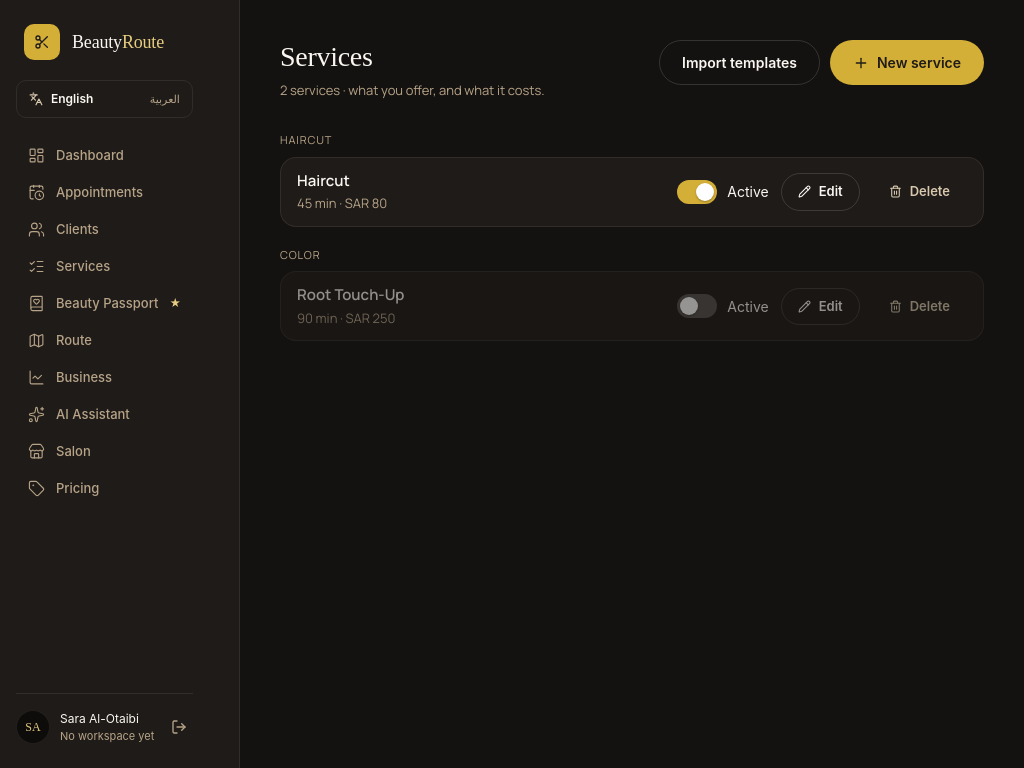
Test: Services page › shows a specific message when delete is blocked because the service has been booked before
Expected: the text "Haircut" is shown, [297,170,350,191]
Step 1. Click the button "Delete" in the row of "45 min · SAR 80" → (919,192), box [872,173,967,211]
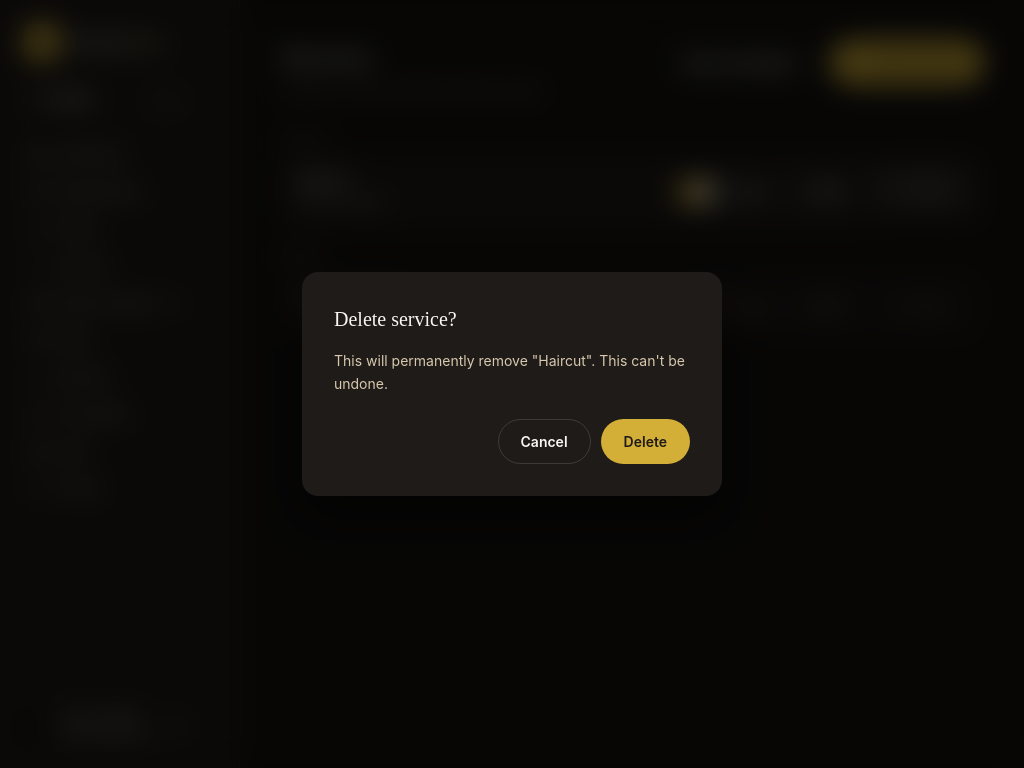
Step 2. Click the button "Delete" → (645,441), box [601,419,690,464]
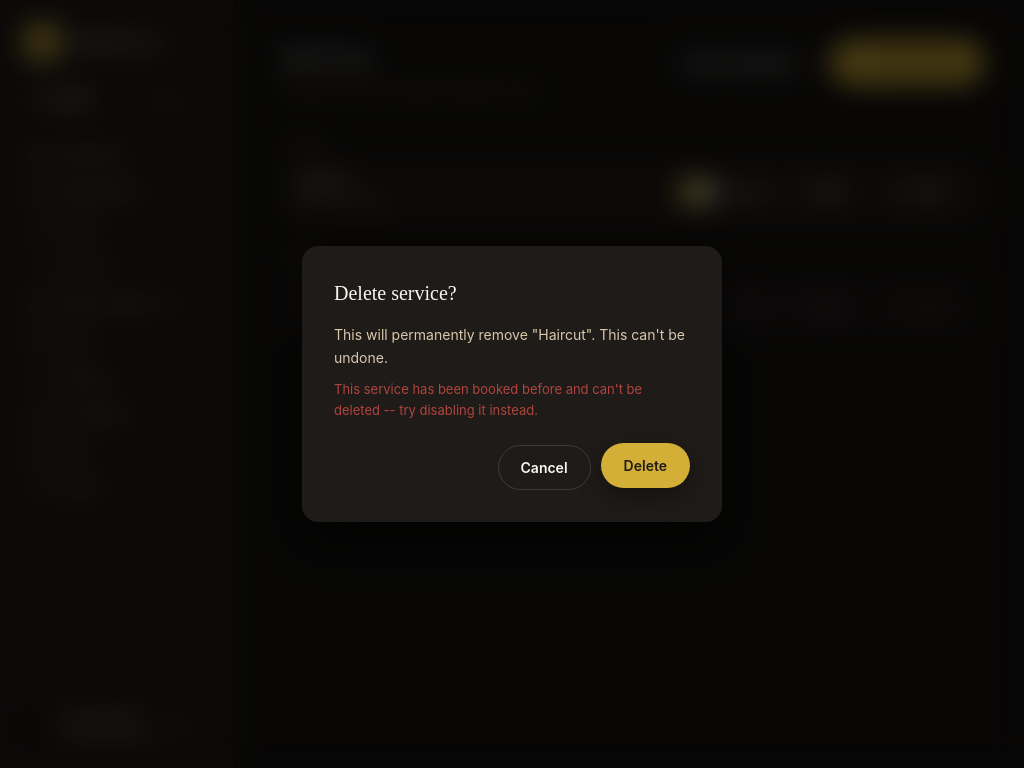
Now the text "can't be deleted -- try disabling it instead." is shown, box [334,381,642,418]
